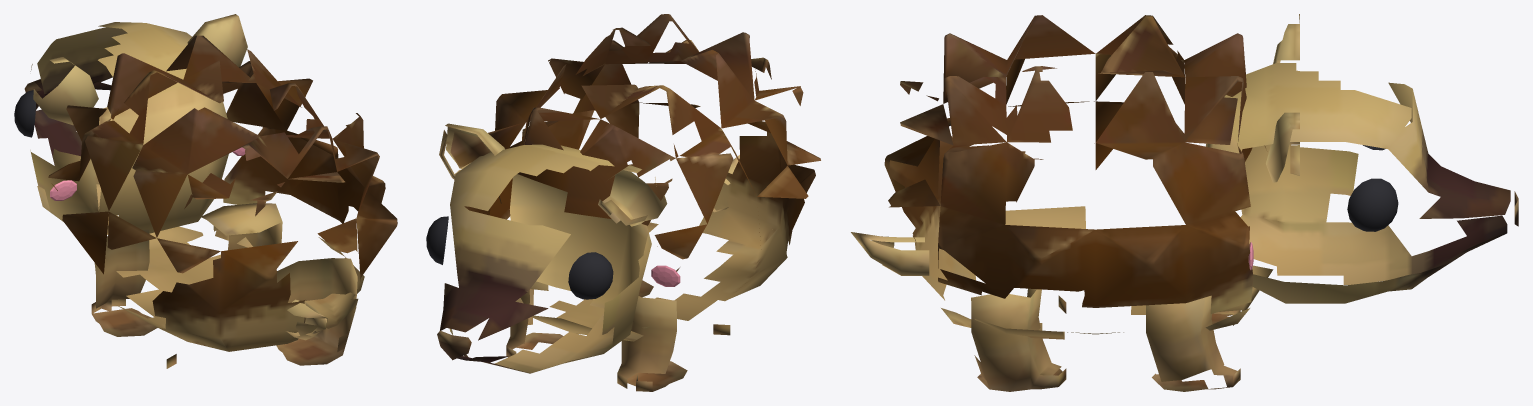
File: Hedgehog1_NEW.fbx
The picture shows the model from 3 angles, left to right: view 1: azimuth 30°, elevation 25°; view 2: azimuth 150°, elevation 25°; view 3: azimuth 270°, elevation 25°; orthographic projection. The views are drawn at different scales.
Visible parts, largest first — view 1: Hedgehog1_NEW.001, Hedgehog1_NEW_Eyes, Hedgehog1_NEW_Blush; view 2: Hedgehog1_NEW.001, Hedgehog1_NEW_Eyes, Hedgehog1_NEW_Blush; view 3: Hedgehog1_NEW.001, Hedgehog1_NEW_Eyes.
Boxes of the visible parts, box(x1,y1,x2,y2) form: Hedgehog1_NEW.001: box(24, 14, 397, 368); Hedgehog1_NEW_Eyes: box(14, 90, 35, 137); Hedgehog1_NEW_Blush: box(50, 180, 76, 200); Hedgehog1_NEW.001: box(437, 14, 820, 391); Hedgehog1_NEW_Eyes: box(426, 216, 613, 299); Hedgehog1_NEW_Blush: box(651, 265, 680, 286); Hedgehog1_NEW.001: box(851, 14, 1518, 391); Hedgehog1_NEW_Eyes: box(1347, 145, 1398, 231).
Bounding box in the file's own units: 299 × 273 × 541.
Materials: 3 (1 with a texture image).
